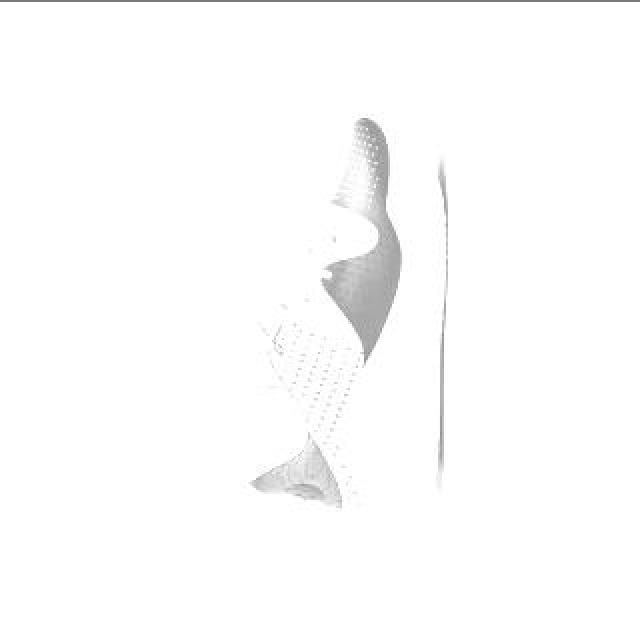shoe: (190, 107, 446, 531)
